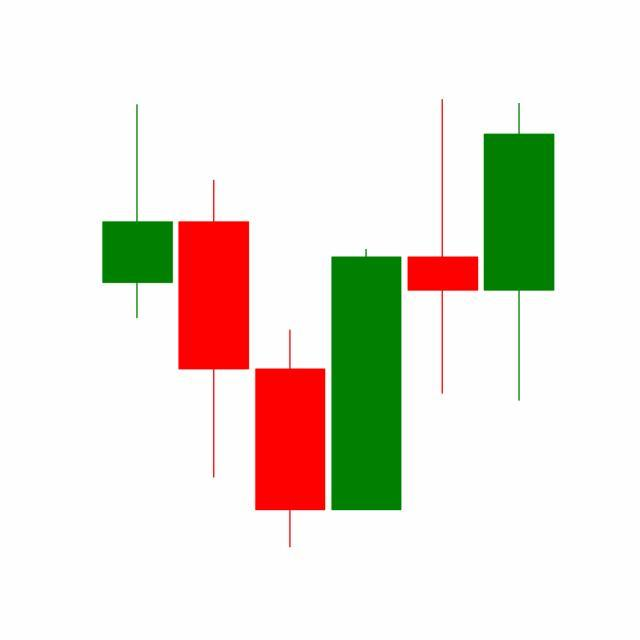Spinning Top: (404, 97, 482, 399)
